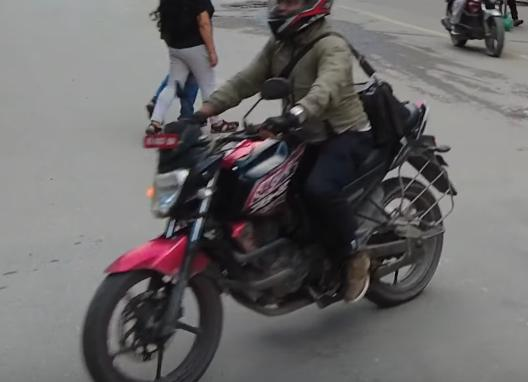bike: (75, 76, 456, 382)
